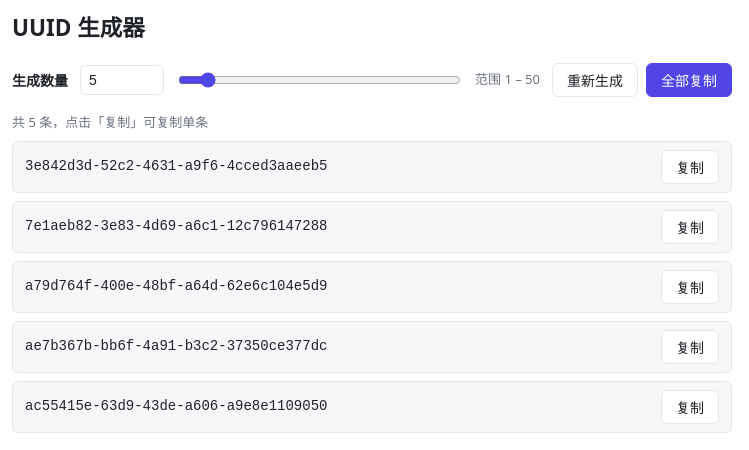
BETE-7 功能：复制与重新生成 › 功能: 单条复制写入对应 UUID，按钮变为「已复制」
Click the 1st button "复制".
click(690, 167)  # box [661, 150, 719, 184]
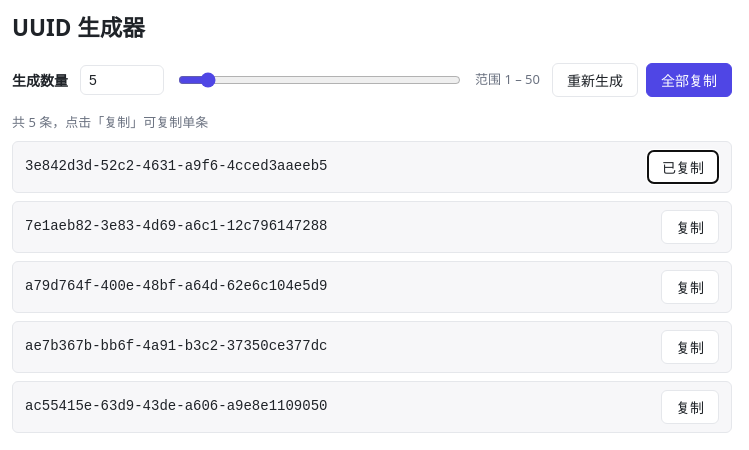
Now the button "已复制" is shown, box [647, 150, 719, 184]
